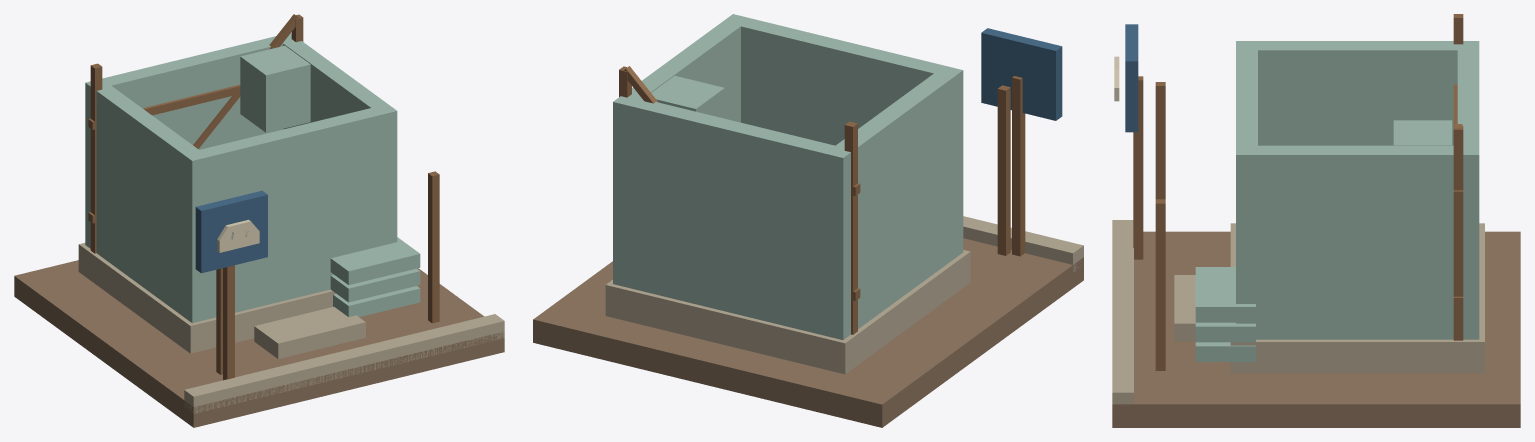
File: bakery-seabreeze-half-built.glb
3 views of the same model, side by side, from view 1: azimuth 30°, elevation 25°; view 2: azimuth 150°, elevation 25°; view 3: azimuth 270°, elevation 25° (orthographic). The views are drawn at different scales.
Parts seen in each view (by area): view 1: bakery; view 2: bakery; view 3: bakery.
Boxes of the visible parts, bbox=[...] form: bakery: bbox=[14, 14, 504, 427]; bakery: bbox=[533, 14, 1083, 427]; bakery: bbox=[1112, 14, 1520, 427].
Bounding box in the file's own units: 1.88 × 1.38 × 1.88.
